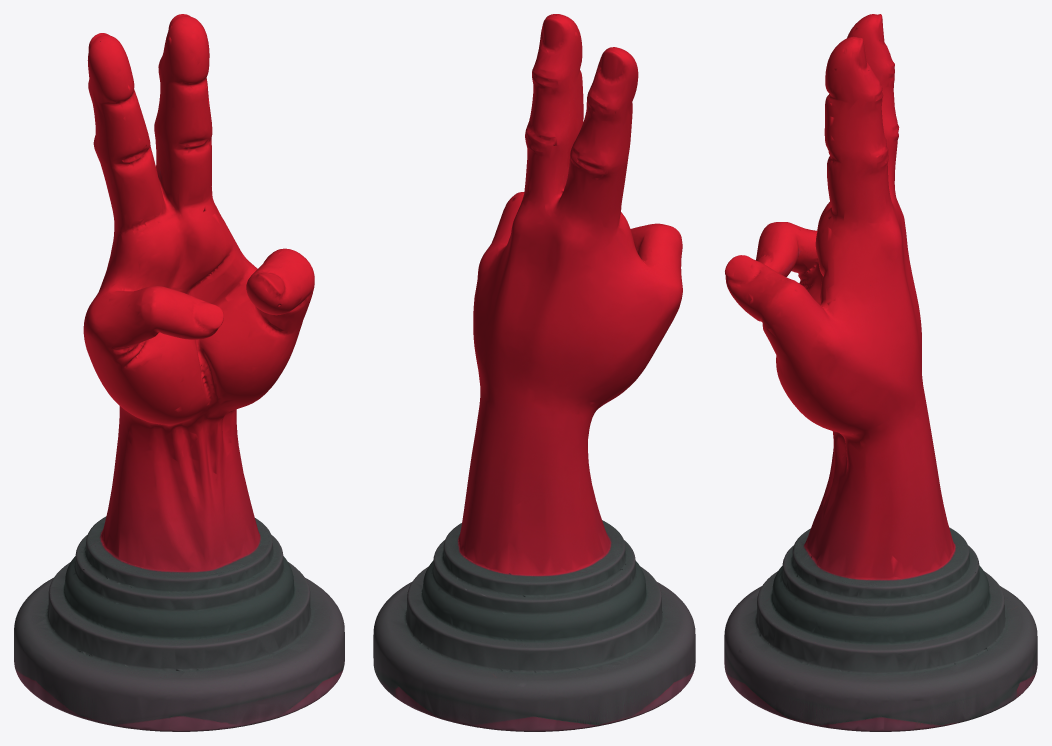
The model's file is ee_hiiipower.glb.
3 views of the same model, side by side, from view 1: azimuth 30°, elevation 25°; view 2: azimuth 150°, elevation 25°; view 3: azimuth 270°, elevation 25° (orthographic). The views are drawn at different scales.
Bounding box in the file's own units: 0.8698 × 1.91 × 0.8699.
1 material, 1 textured.
